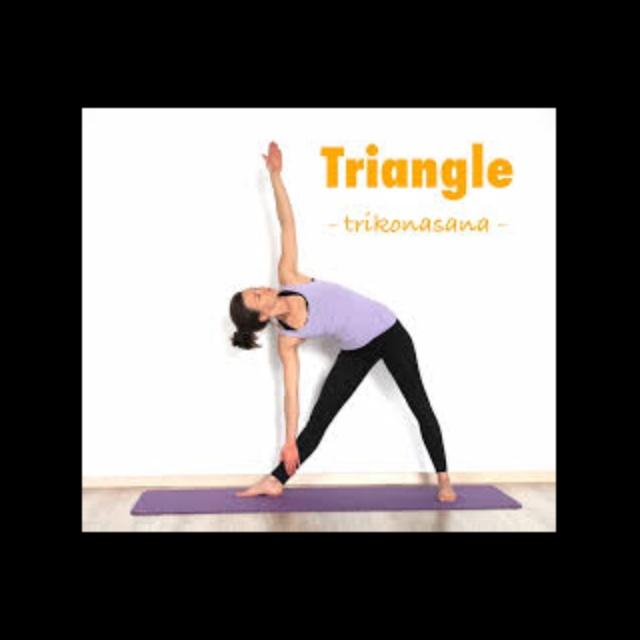Triangle_Pose: (223, 141, 459, 508)
